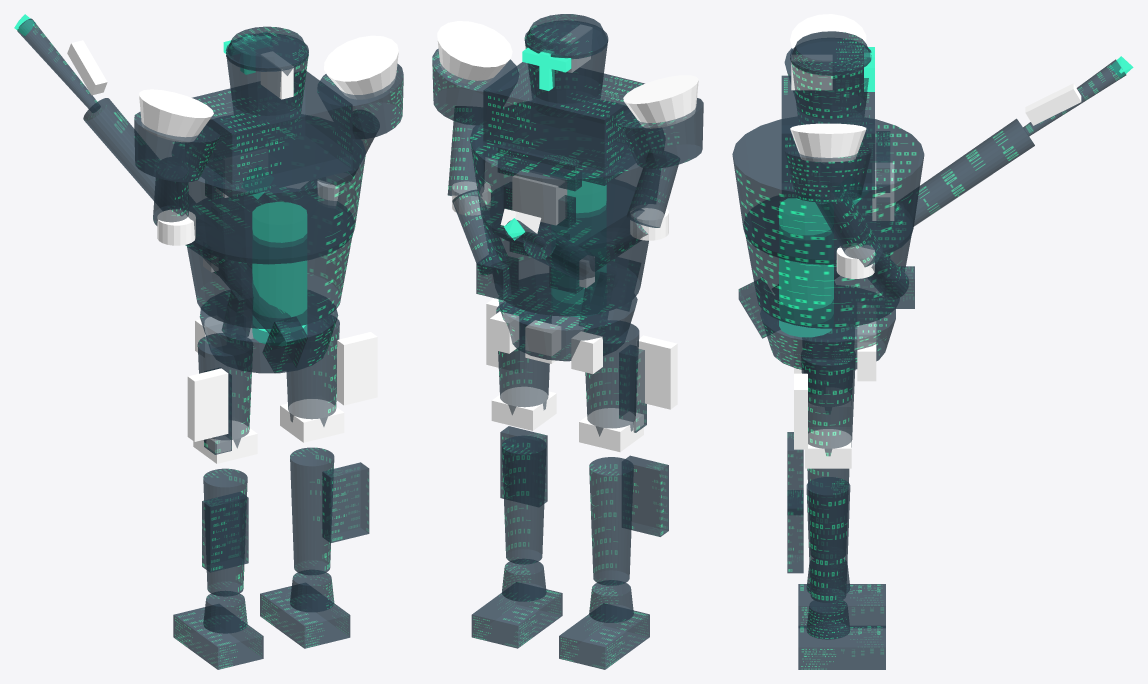
The model's file is fusiller.glb.
3 views of the same model, side by side, from view 1: azimuth 30°, elevation 25°; view 2: azimuth 150°, elevation 25°; view 3: azimuth 270°, elevation 25° (orthographic). The views are drawn at different scales.
Parts seen in each view (by area): view 1: guerrier; view 2: guerrier; view 3: guerrier.
Boxes of the visible parts, x1,y1,x2,y2 form: guerrier: (14, 14, 403, 669); guerrier: (432, 14, 703, 669); guerrier: (732, 14, 1133, 669).
Size of the model in its own units: 1.07 by 2.38 by 1.46.
